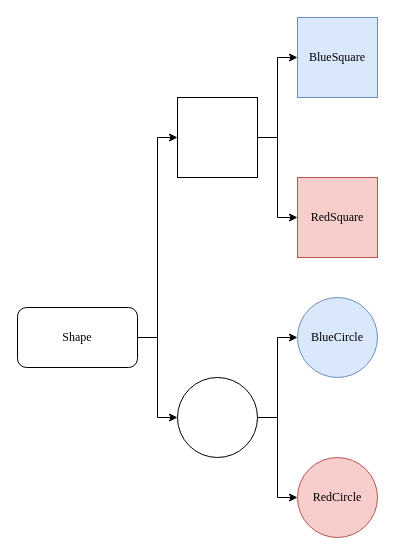
The diagram is 395 pixels wide and 555 high, and some of its shapes have lost their labels. Each missing label, with the centre of its shape:
Circle: (217,417)
Square: (217,137)
